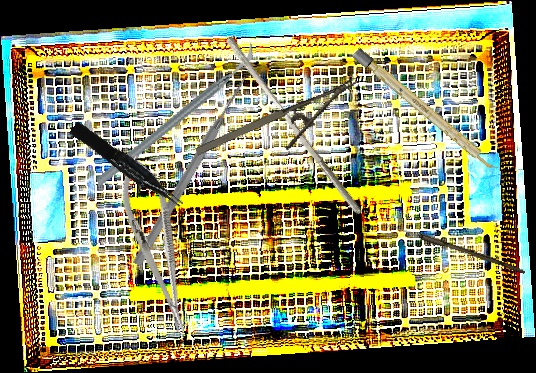Chopper: (71, 41, 279, 189)
Needle Holder: (193, 77, 371, 182), (111, 150, 201, 338)
Pusher: (218, 34, 370, 217), (130, 73, 252, 269)
Scalpel Handle: (351, 47, 501, 175)
Surgical Spoon: (381, 220, 527, 275)
Tissue Forceps: (69, 116, 185, 217)
